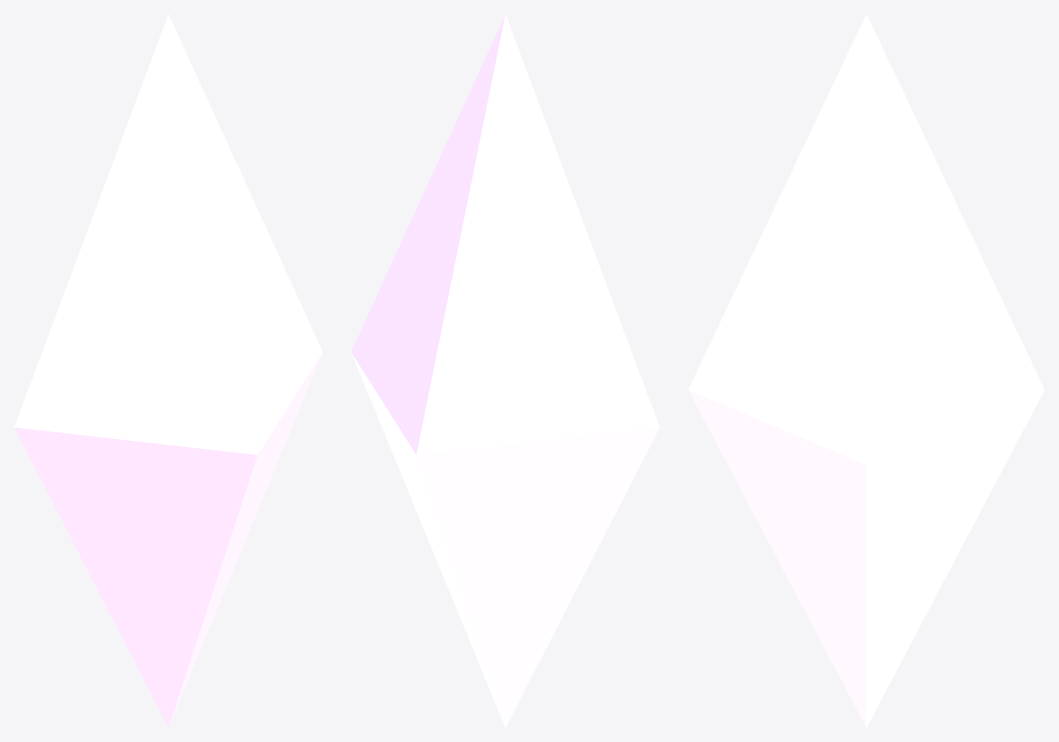
Rendered from weather_rift_shard.glb.
3 renders of one model, left to right at view 1: azimuth 30°, elevation 25°; view 2: azimuth 150°, elevation 25°; view 3: azimuth 270°, elevation 25°, orthographic.
Parts seen in each view (by area): view 1: rotating_facet; view 2: rotating_facet; view 3: rotating_facet.
Part boxes in pixels (x1=…): rotating_facet: x1=14, y1=14, x2=322, y2=727; rotating_facet: x1=351, y1=14, x2=659, y2=727; rotating_facet: x1=688, y1=14, x2=1044, y2=727.
Bounding box in the file's own units: 0.516 × 1.14 × 0.516.
